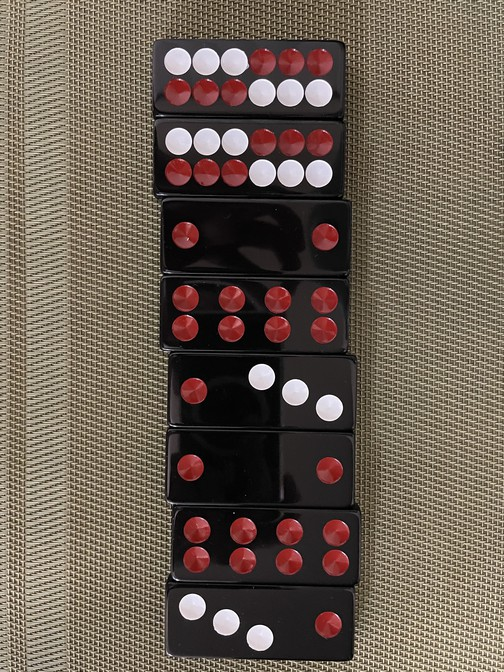earth: (158, 199, 355, 277), (166, 432, 361, 507)
goose: (168, 585, 356, 663), (168, 354, 354, 431)
heaven: (151, 36, 353, 119), (151, 117, 350, 198)
man: (160, 276, 349, 352), (170, 511, 361, 585)
